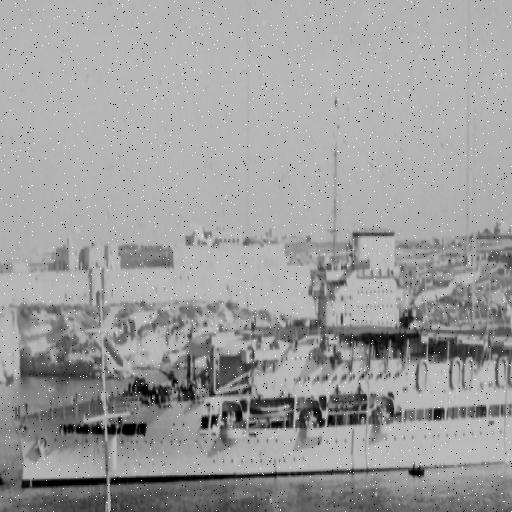Portanaves: (10, 127, 512, 496)
